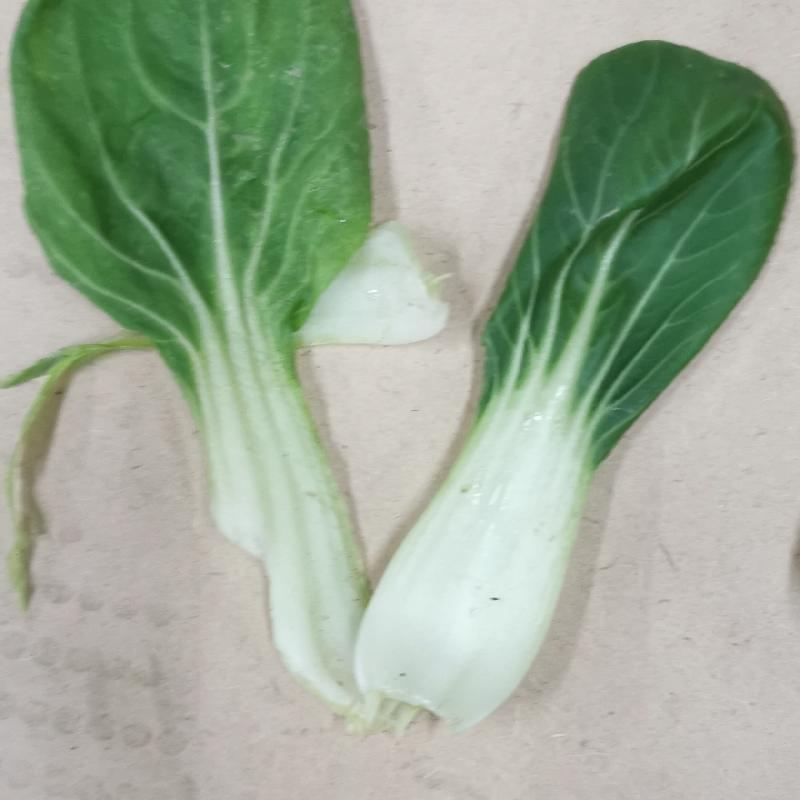green vegatable: (380, 20, 776, 711), (6, 0, 381, 701)
